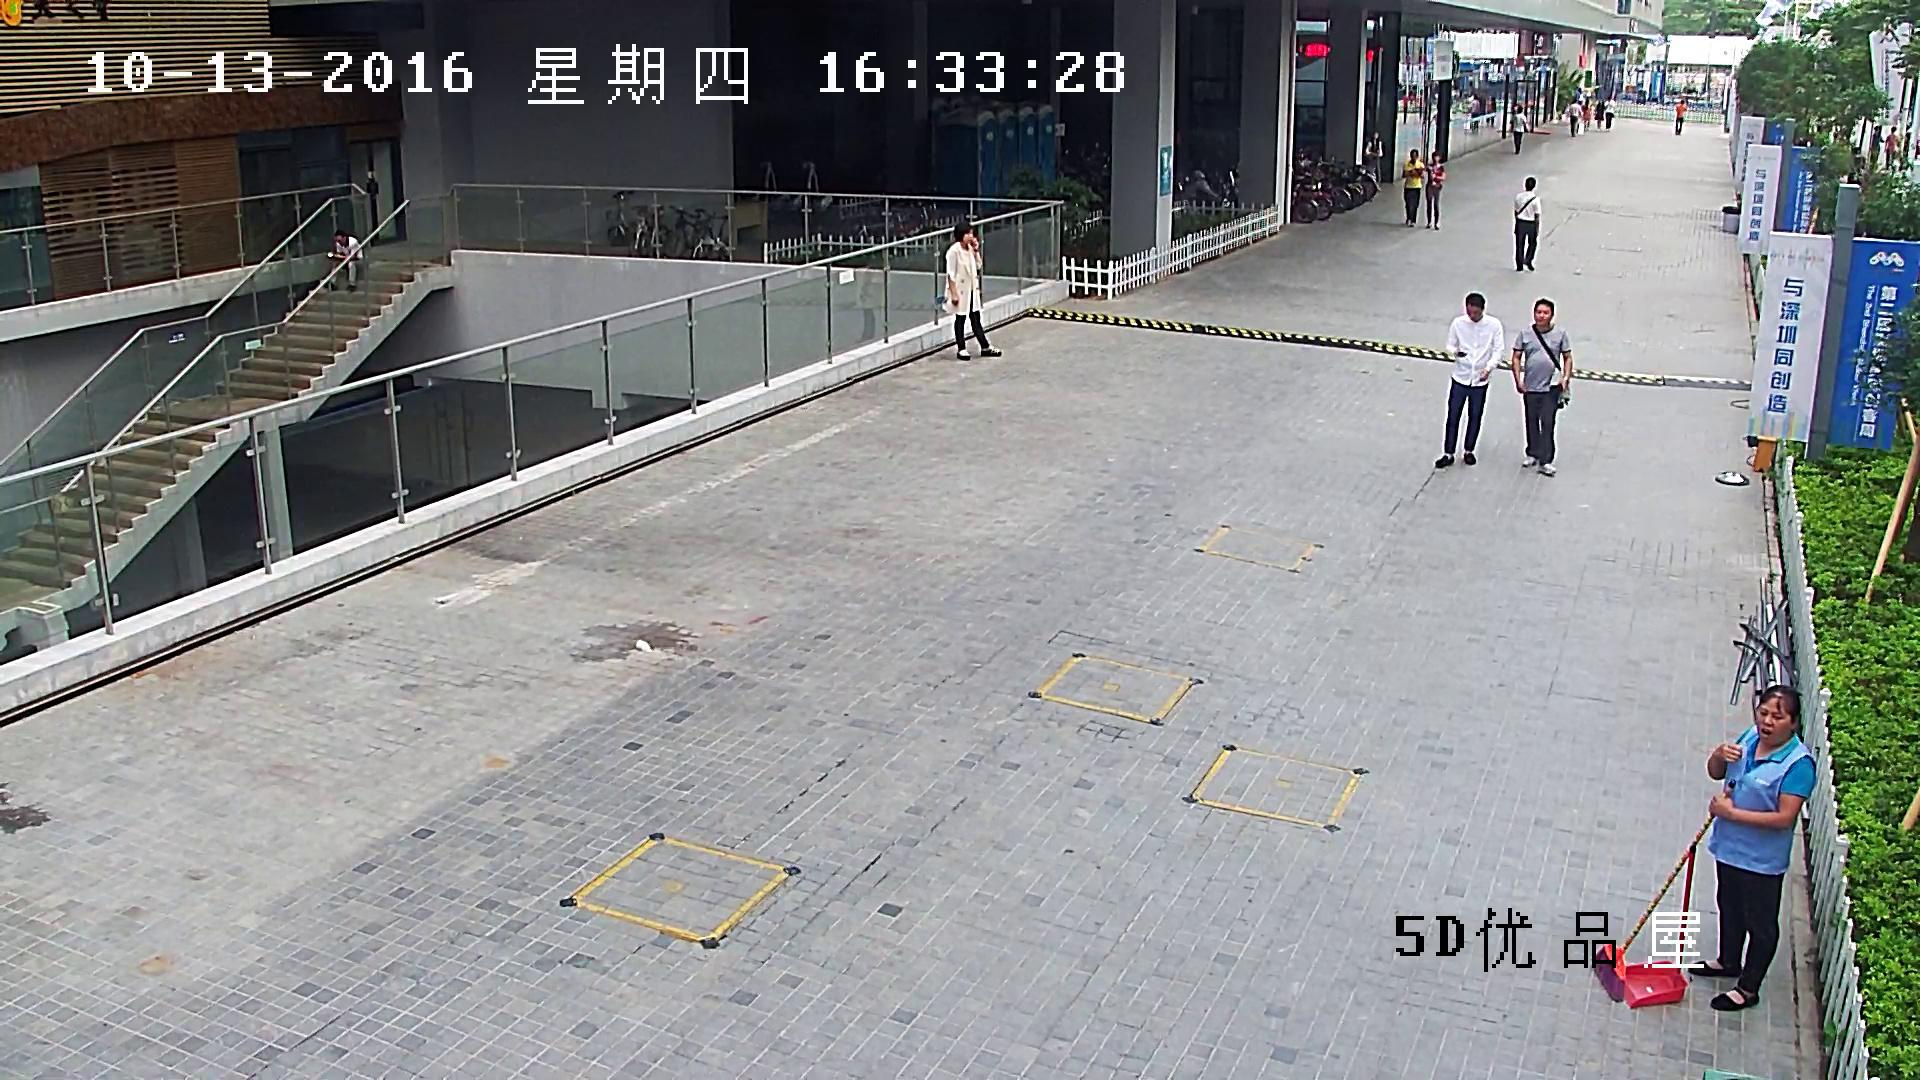person: (1590, 683, 1819, 1011), (1686, 684, 1817, 1013), (1433, 292, 1505, 468), (1511, 296, 1574, 476), (941, 221, 1002, 362), (1512, 176, 1540, 273), (326, 228, 365, 293), (1400, 148, 1424, 227), (1424, 150, 1445, 231), (1363, 130, 1383, 184), (1509, 104, 1526, 155), (1884, 126, 1900, 169), (1567, 96, 1580, 137), (1672, 99, 1687, 136), (1466, 93, 1481, 131), (1870, 125, 1883, 164), (1604, 93, 1616, 133), (1592, 97, 1605, 131), (1581, 95, 1593, 131), (1485, 95, 1497, 128)
